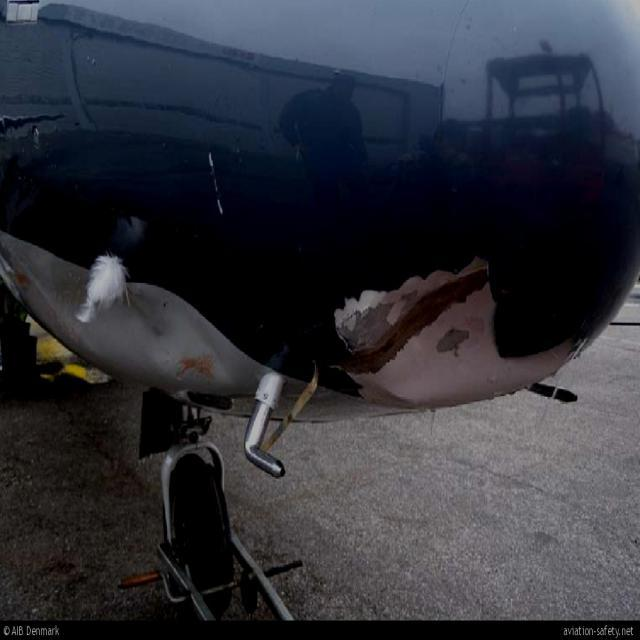dent: (131, 294, 236, 387), (375, 313, 473, 401)
